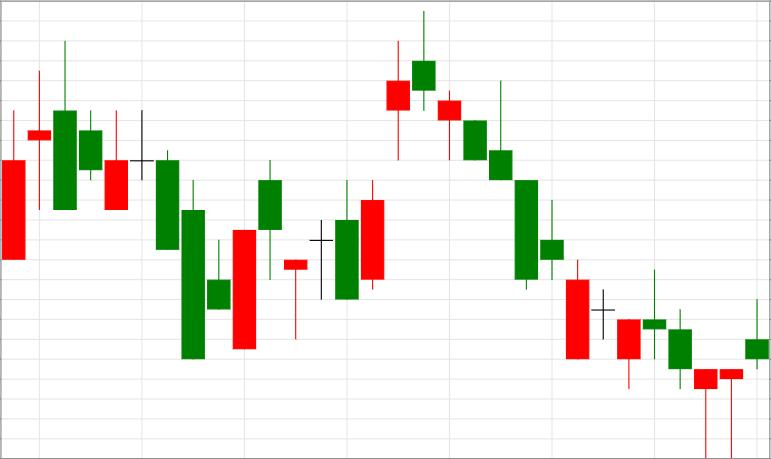bullish_engulfing_rise: (129, 109, 256, 359)
shooting_star_fall: (336, 11, 435, 299)
